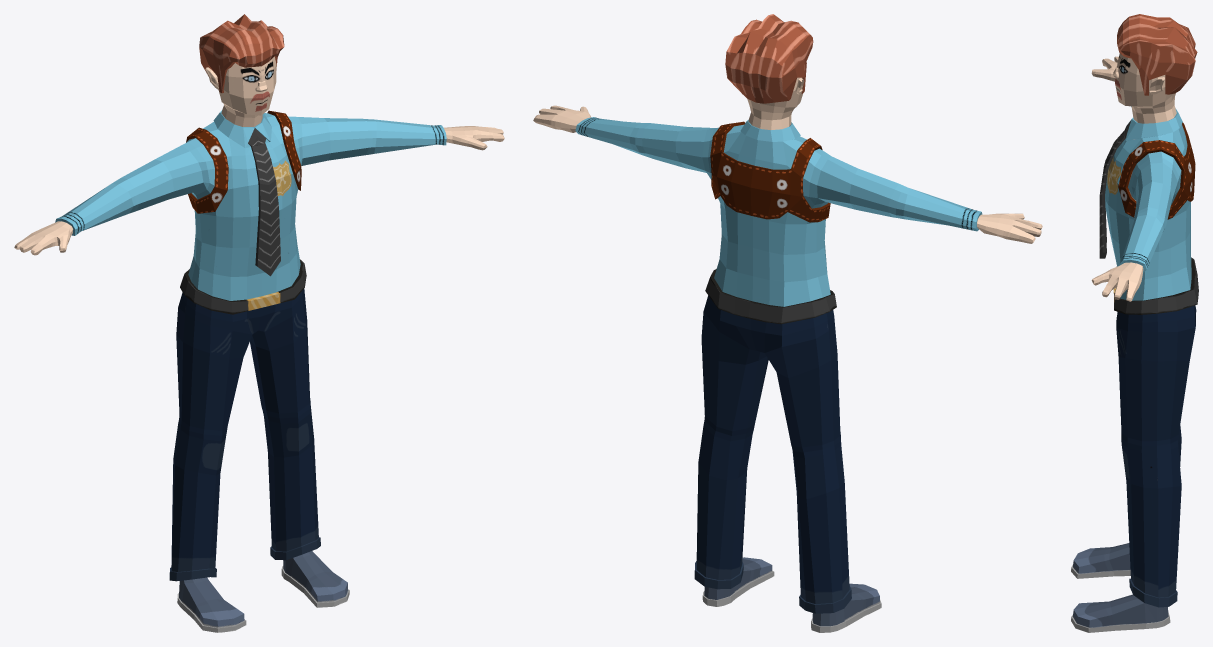
The model's file is Enemigo_Guardia(1).fbx.
The picture shows the model from 3 angles, left to right: view 1: azimuth 30°, elevation 25°; view 2: azimuth 150°, elevation 25°; view 3: azimuth 270°, elevation 25°; orthographic projection. The views are drawn at different scales.
Visible parts, largest first — view 1: polySurface14, Cabello1, Corbata; view 2: polySurface14, Cabello1; view 3: polySurface14, Cabello1, Corbata, polySurface12.
Part boxes in pixels (x1=…): polySurface14: x1=14, y1=56, x2=504, y2=632; Cabello1: x1=199, y1=14, x2=284, y2=93; Corbata: x1=251, y1=143, x2=280, y2=276; polySurface14: x1=533, y1=77, x2=1042, y2=632; Cabello1: x1=725, y1=14, x2=813, y2=103; polySurface14: x1=1071, y1=53, x2=1198, y2=632; Cabello1: x1=1117, y1=14, x2=1197, y2=95; Corbata: x1=1099, y1=131, x2=1125, y2=258; polySurface12: x1=1149, y1=77, x2=1164, y2=94.
Size of the model in its own units: 2.63 by 2.95 by 0.5923.
